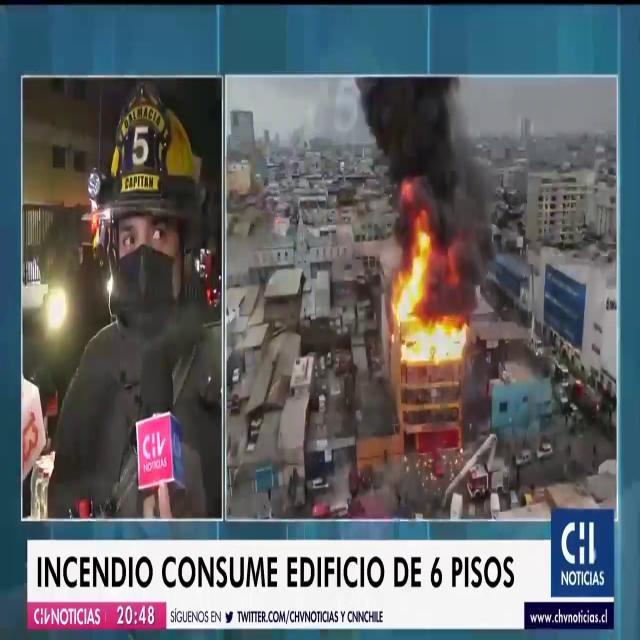Fire: (388, 213, 470, 367)
Smoke: (352, 76, 502, 283)
